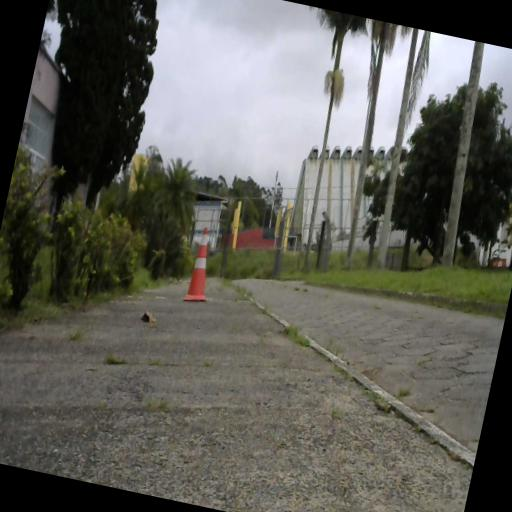cone: (183, 224, 221, 306)
